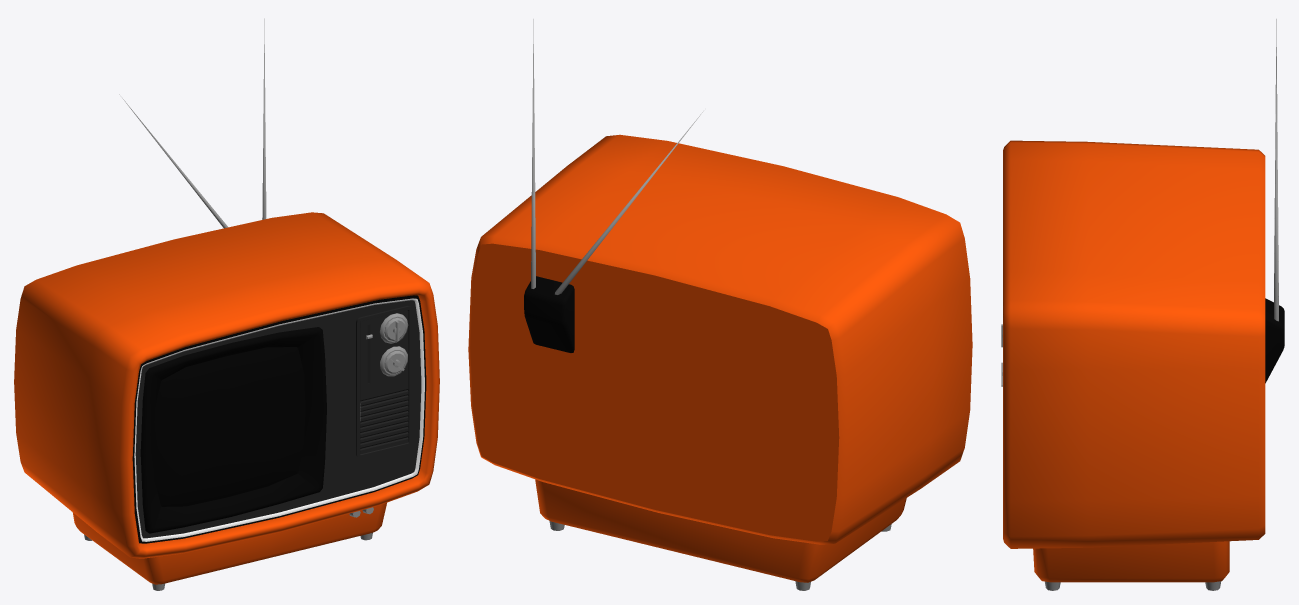
3 renders of one model, left to right at view 1: azimuth 30°, elevation 25°; view 2: azimuth 150°, elevation 25°; view 3: azimuth 270°, elevation 25°, orthographic. The views are drawn at different scales.
Visible parts, largest first — view 1: objRetro_TV; view 2: objRetro_TV; view 3: objRetro_TV.
Boxes of the visible parts, x1,y1,x2,y2 form: objRetro_TV: [14, 18, 439, 590]; objRetro_TV: [468, 19, 972, 590]; objRetro_TV: [1001, 19, 1284, 590].
Size of the model in its own units: 110 by 150 by 71.95.
